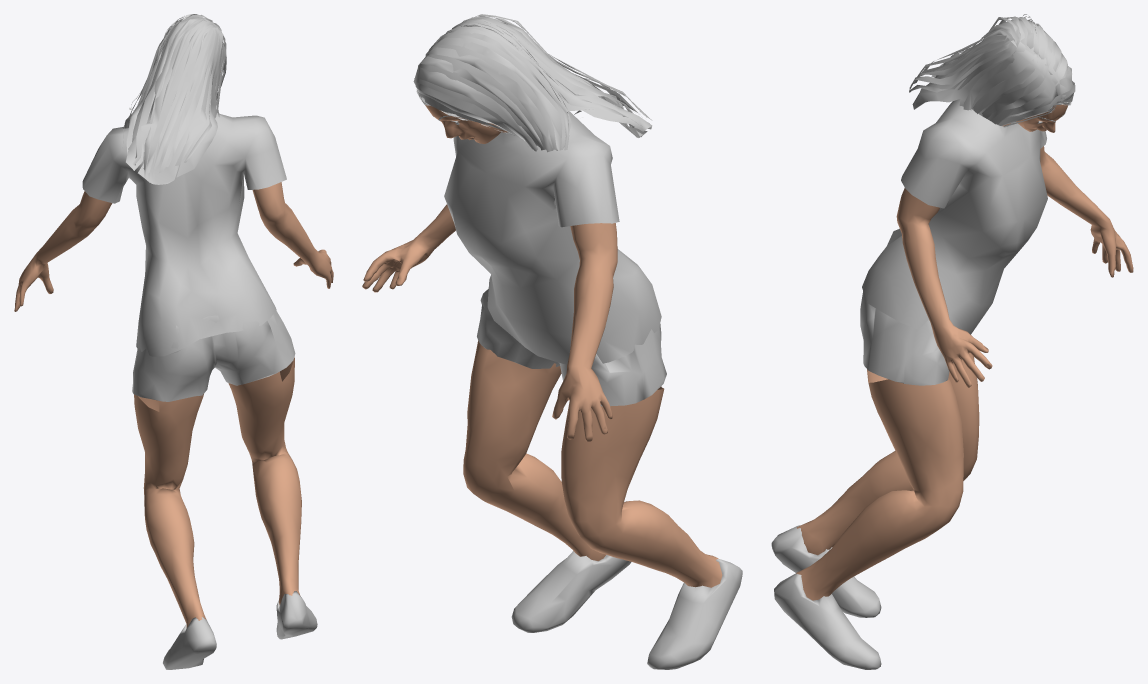
File: player2att_000017.obj
The picture shows the model from 3 angles, left to right: view 1: azimuth 30°, elevation 25°; view 2: azimuth 150°, elevation 25°; view 3: azimuth 270°, elevation 25°; orthographic projection. The views are drawn at different scales.
Visible parts, largest first — view 1: player2:tshirt02, player2:Body, player2:fhair01, player2:short01, player2:shoes02; view 2: player2:Body, player2:tshirt02, player2:fhair01, player2:shoes02, player2:short01; view 3: player2:Body, player2:tshirt02, player2:fhair01, player2:shoes02, player2:short01.
Part boxes in pixels (left/top/right/bottom): player2:tshirt02: left=82, top=113, right=286, bottom=356; player2:Body: left=14, top=71, right=333, bottom=627; player2:fhair01: left=122, top=14, right=226, bottom=184; player2:short01: left=132, top=311, right=295, bottom=401; player2:shoes02: left=163, top=591, right=317, bottom=669; player2:Body: left=362, top=105, right=722, bottom=587; player2:tshirt02: left=444, top=111, right=661, bottom=365; player2:fhair01: left=413, top=14, right=652, bottom=206; player2:shoes02: left=511, top=551, right=742, bottom=669; player2:short01: left=477, top=289, right=666, bottom=406; player2:Body: left=796, top=104, right=1133, bottom=600; player2:tshirt02: left=862, top=99, right=1047, bottom=334; player2:fhair01: left=909, top=14, right=1075, bottom=127; player2:shoes02: left=771, top=525, right=881, bottom=669; player2:short01: left=860, top=284, right=953, bottom=385.
Bounding box in the file's own units: 7.27 × 15.39 × 7.92.
